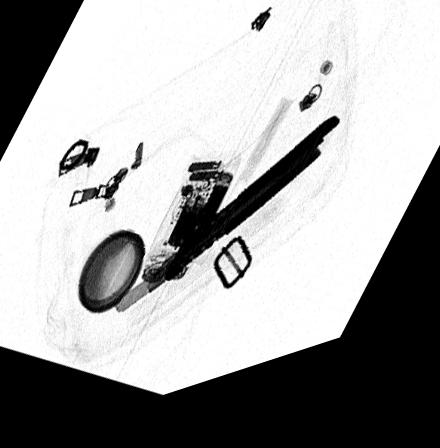Knife: (113, 134, 342, 320)
